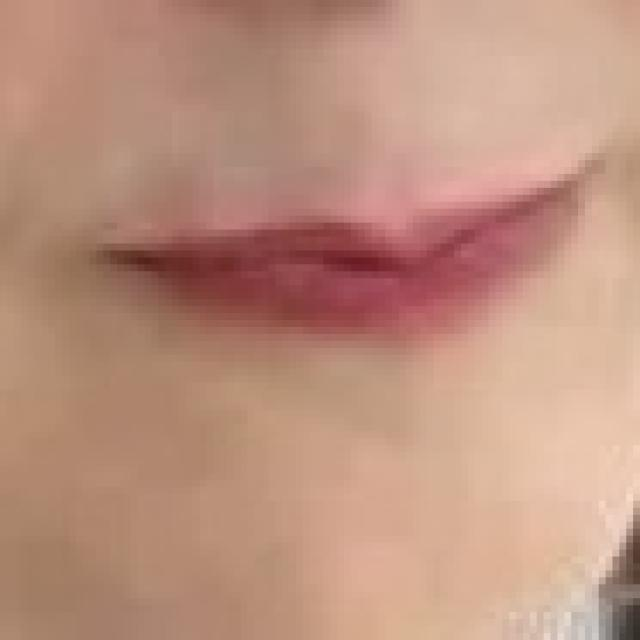closed-mouth: (90, 153, 606, 341)
